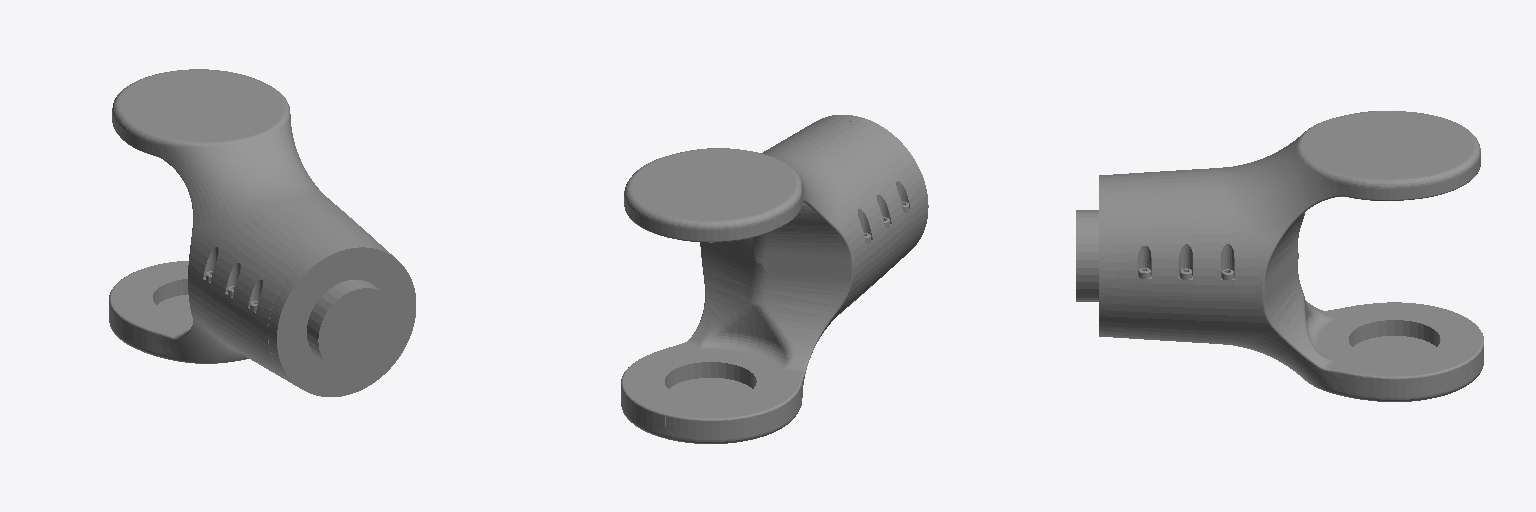
3 views of the same model, side by side, from view 1: azimuth 30°, elevation 25°; view 2: azimuth 150°, elevation 25°; view 3: azimuth 270°, elevation 25° (orthographic).
Parts seen in each view (by area): view 1: AR5-5_07L-W4S4A1-ZY_link6; view 2: AR5-5_07L-W4S4A1-ZY_link6; view 3: AR5-5_07L-W4S4A1-ZY_link6.
Part boxes in pixels (left/top/right/bottom): AR5-5_07L-W4S4A1-ZY_link6: left=109, top=69, right=415, bottom=396; AR5-5_07L-W4S4A1-ZY_link6: left=621, top=115, right=928, bottom=443; AR5-5_07L-W4S4A1-ZY_link6: left=1076, top=111, right=1483, bottom=401.
Size of the model in its own units: 0.0779 by 0.106 by 0.1775.